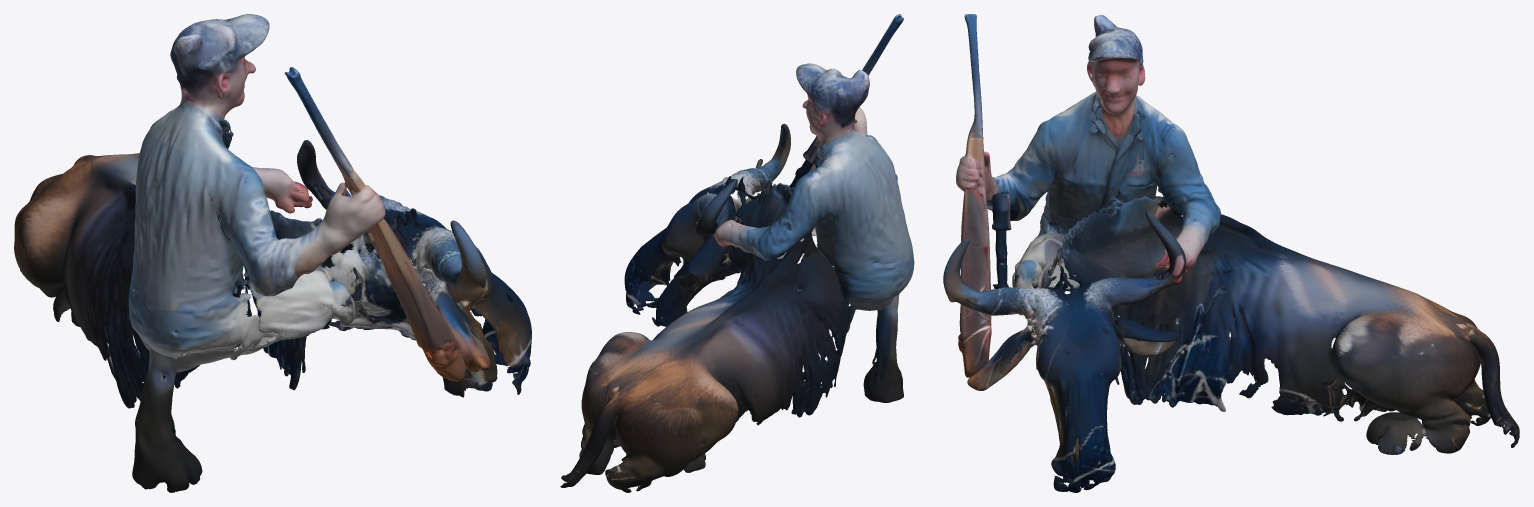
Rendered from model-compressed-1773139843759-r52tvvfzdzr.glb.
3 renders of one model, left to right at view 1: azimuth 30°, elevation 25°; view 2: azimuth 150°, elevation 25°; view 3: azimuth 270°, elevation 25°, orthographic. The views are drawn at different scales.
Parts seen in each view (by area): view 1: tripo_node_0043e0a3-2cc0-43a8-a518-738d8ee79ec9; view 2: tripo_node_0043e0a3-2cc0-43a8-a518-738d8ee79ec9; view 3: tripo_node_0043e0a3-2cc0-43a8-a518-738d8ee79ec9.
Boxes of the visible parts, x1,y1,x2,y2 form: tripo_node_0043e0a3-2cc0-43a8-a518-738d8ee79ec9: (14,14,531,492); tripo_node_0043e0a3-2cc0-43a8-a518-738d8ee79ec9: (560,14,914,492); tripo_node_0043e0a3-2cc0-43a8-a518-738d8ee79ec9: (943,14,1519,492).
Bounding box in the file's own units: 0.6439 × 0.7349 × 1.
Materials: 1 (1 with a texture image).
